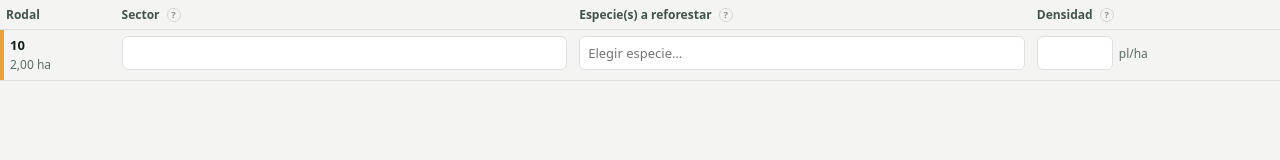
it: PlanificacionTable › refuses a density outside 1–20.000 with a message by the cell
Type "0" into the field named "Densidad del rodal 10 en plantas por hectárea" at [1075, 53], box [1037, 36, 1113, 70]
Then press Enter
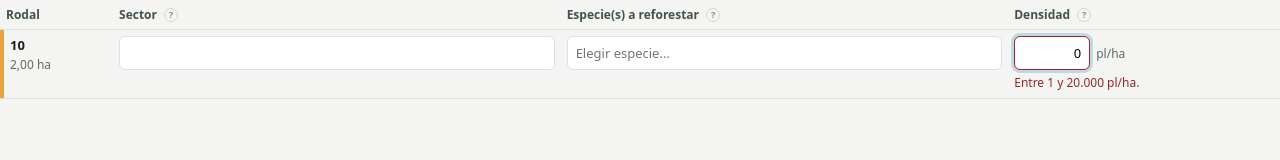
Now the message reads "Entre 1 y 20.000 pl/ha.", box [1014, 74, 1139, 91]
